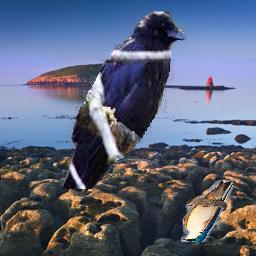Crow: (61, 11, 187, 190)
Swallow: (181, 180, 233, 242)
